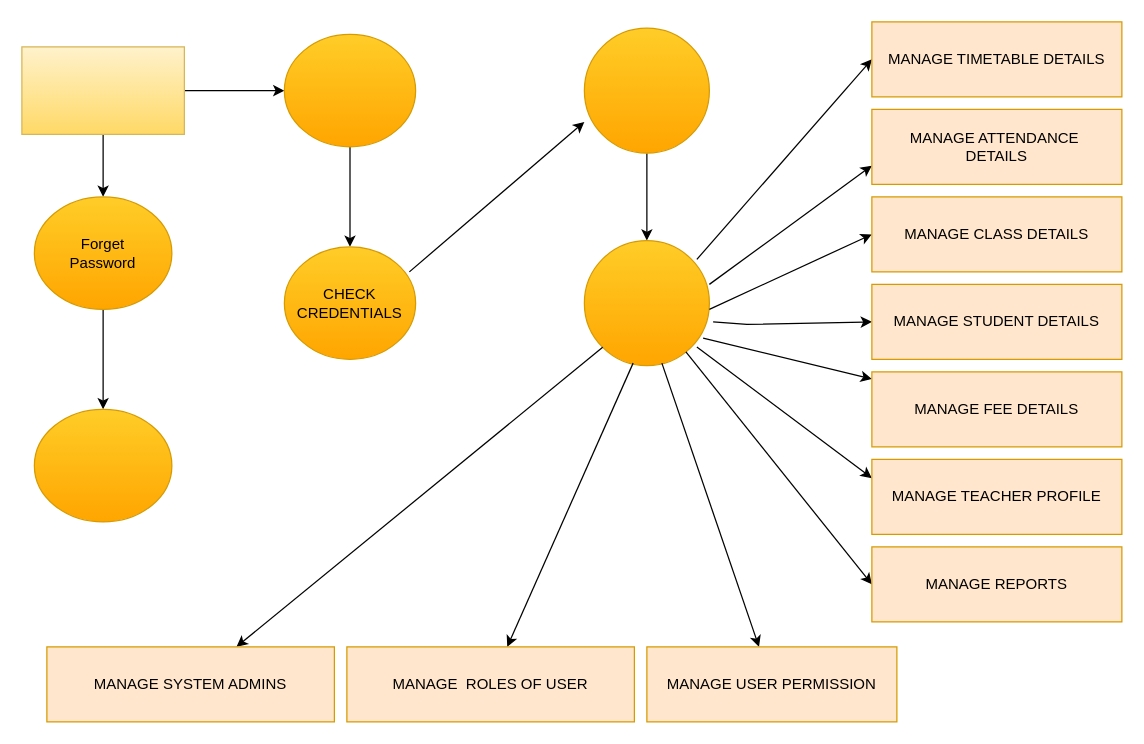
Some shapes in this 1144 by 744 pixel diagram are drawn without their labels. The centre of each missing label's shape, as x and y in pixels:
"ADMIN" goes at (102,90).
"CHECK ROLES OF ACCESS" goes at (646,90).
"Log in to system" goes at (349,90).
"MANAGE MODULES" goes at (646,302).
"SEND EMAIL TO THE USER" goes at (102,465).
